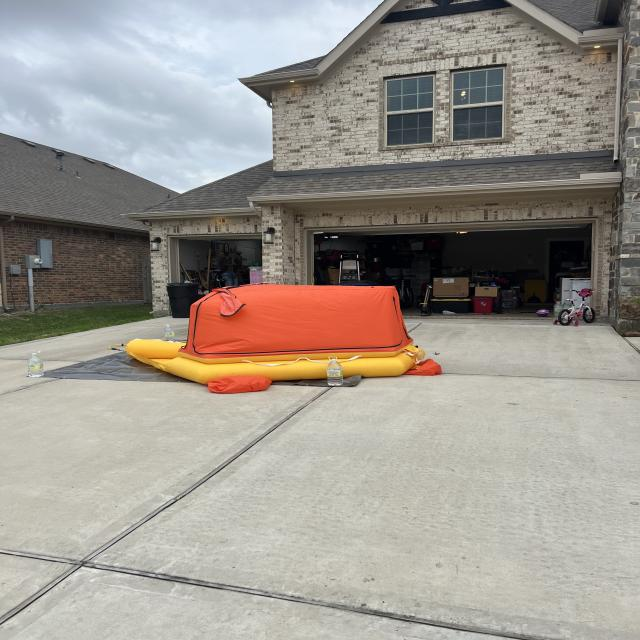Multi-person_life_raft: (126, 286, 442, 396)
